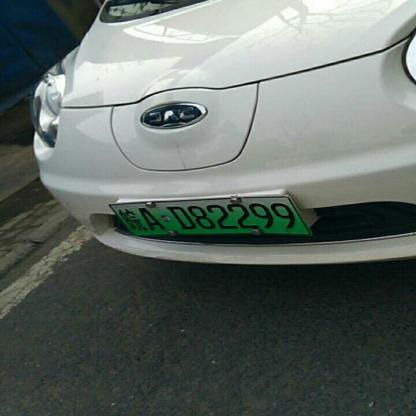lp: (109, 197, 309, 234)
